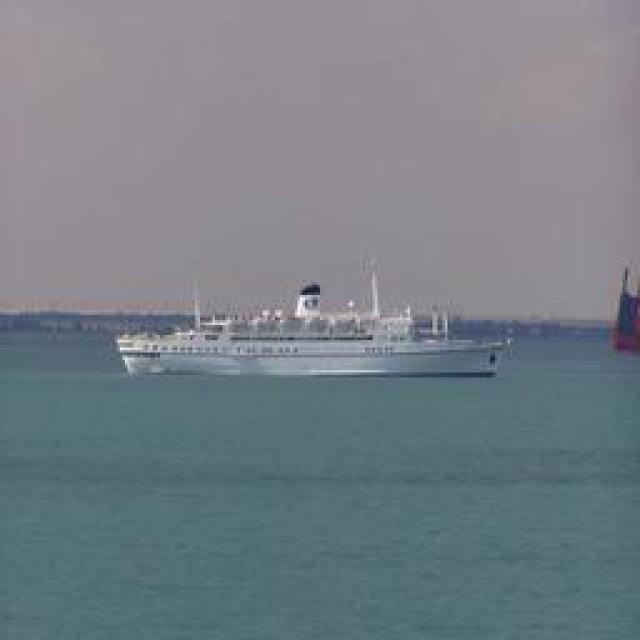Ship: (97, 278, 510, 376)
